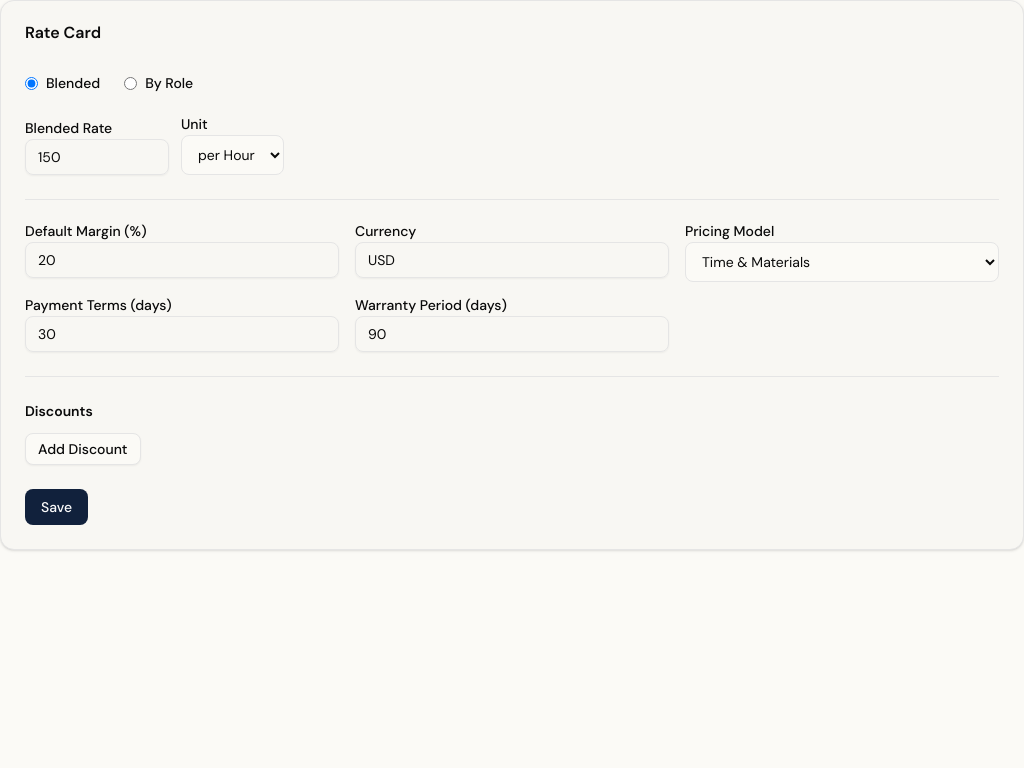
Scenario: Save tests › shows success feedback when 200 is returned
Step 1. Click the button "Save" → (57, 507), box [25,489,88,525]
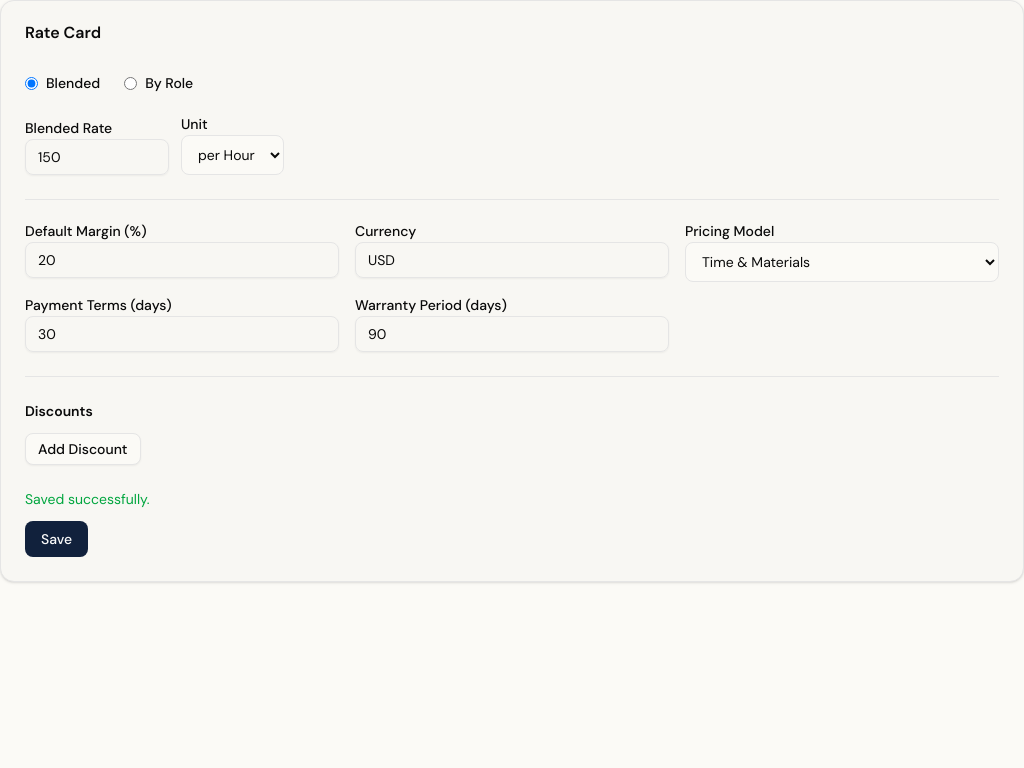
Now the text "Saved successfully." is shown, box [25,490,150,508]
